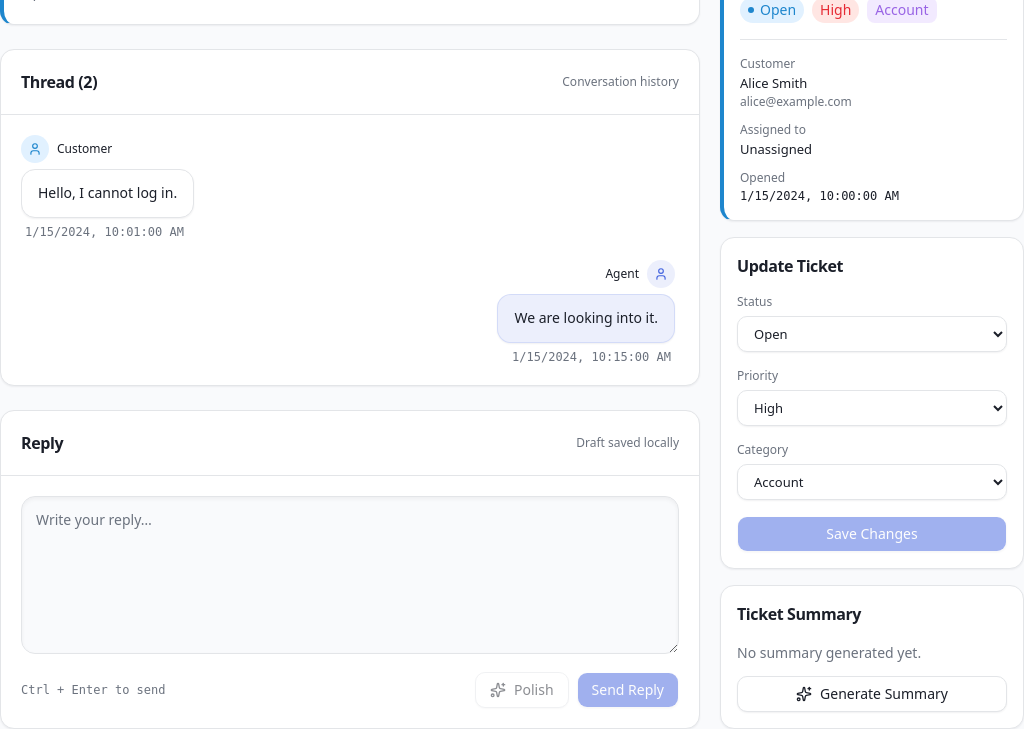
Scenario: TicketDetail page › summary text is displayed after successful generation
This screenshot has width=1024, height=729.
(page scrolled)
Click the button "Generate Summary": (872, 694) [737, 676, 1007, 712]
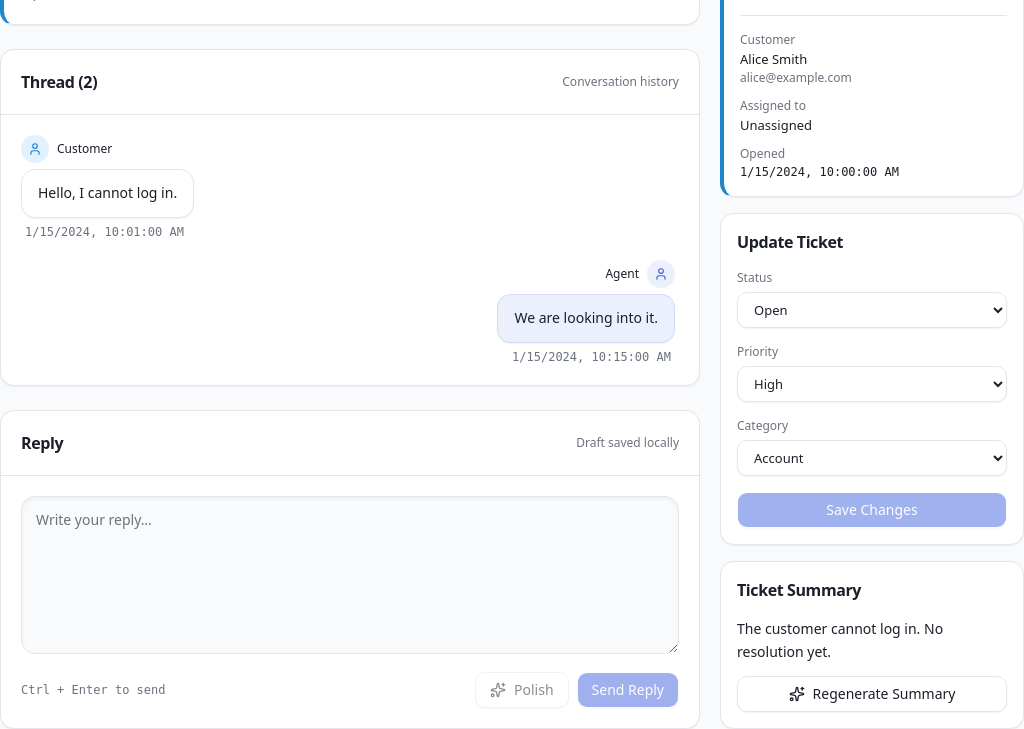
Result: the text "The customer cannot log in. No resolution yet." is shown at [737, 619, 947, 661]
Result: the text "No summary generated yet." is gone
